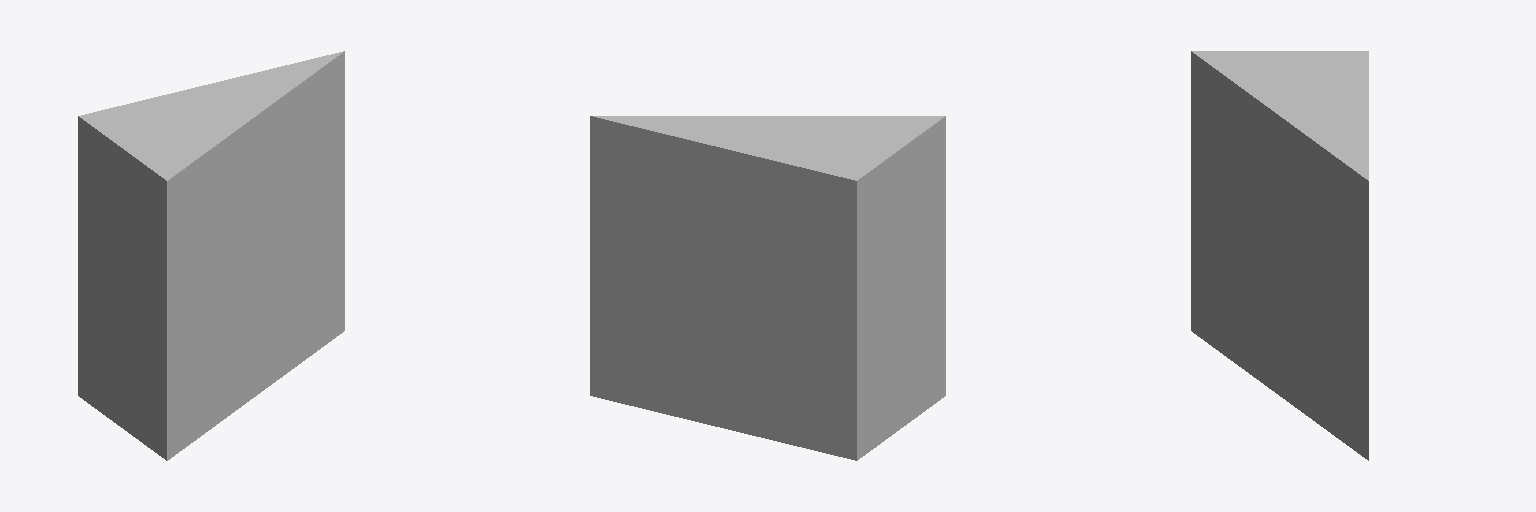
File: slope.obj
The picture shows the model from 3 angles: view 1: azimuth 30°, elevation 25°; view 2: azimuth 150°, elevation 25°; view 3: azimuth 270°, elevation 25°; orthographic projection.
Visible parts, largest first — view 1: Object.1; view 2: Object.1; view 3: Object.1.
Part boxes in pixels (bbox=[...]): Object.1: bbox=[78, 51, 344, 460]; Object.1: bbox=[590, 116, 945, 460]; Object.1: bbox=[1191, 51, 1368, 460].
Bounding box in the file's own units: 34.39 × 34.48 × 19.81.